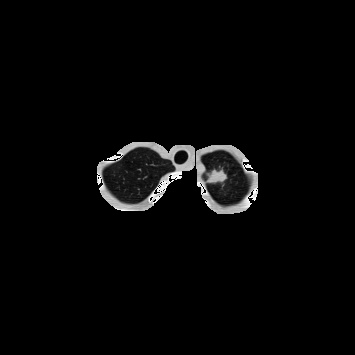PN: (209, 167, 227, 185)
